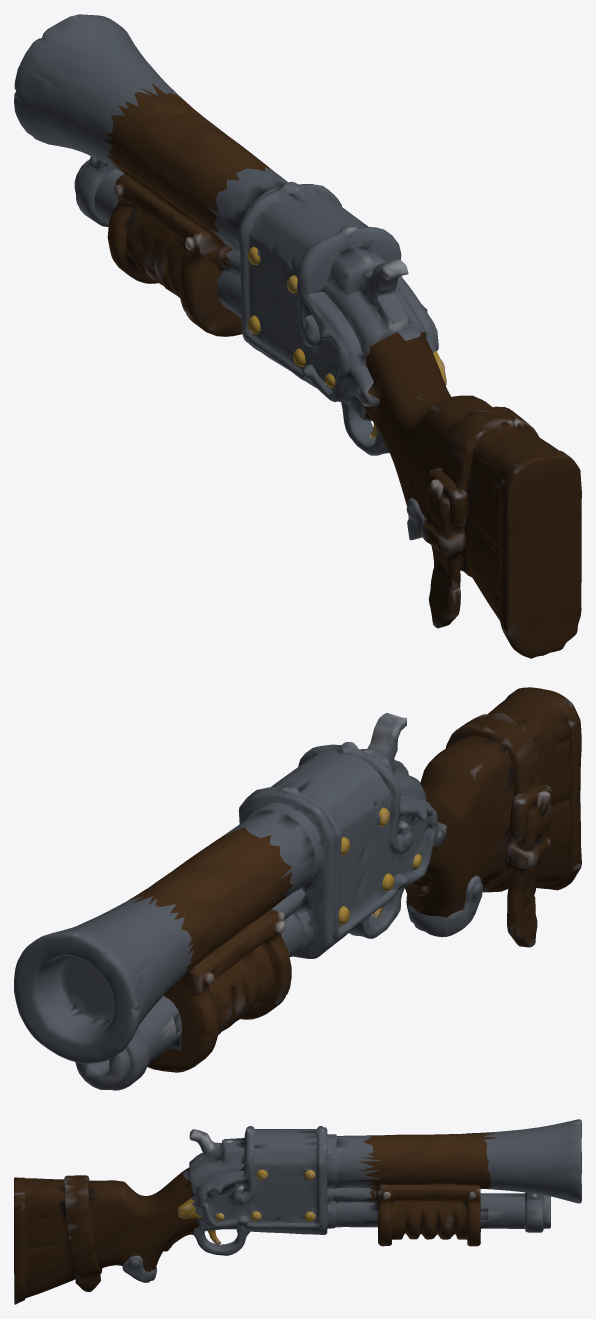
Rendered from fracas.glb.
3 renders of one model, top to bottom at view 1: azimuth 30°, elevation 25°; view 2: azimuth 150°, elevation 25°; view 3: azimuth 270°, elevation 25°, orthographic. The views are drawn at different scales.
Parts seen in each view (by area): view 1: Body, PumpGrip; view 2: Body, PumpGrip; view 3: Body, PumpGrip.
Part boxes in pixels (x1=…): Body: x1=14, y1=14, x2=581, y2=658; PumpGrip: x1=104, y1=83, x2=270, y2=336; Body: x1=14, y1=687, x2=581, y2=1090; PumpGrip: x1=128, y1=827, x2=293, y2=1072; Body: x1=14, y1=1119, x2=581, y2=1304; PumpGrip: x1=358, y1=1132, x2=498, y2=1246.
Bounding box in the file's own units: 0.0873 × 0.2038 × 0.58.
